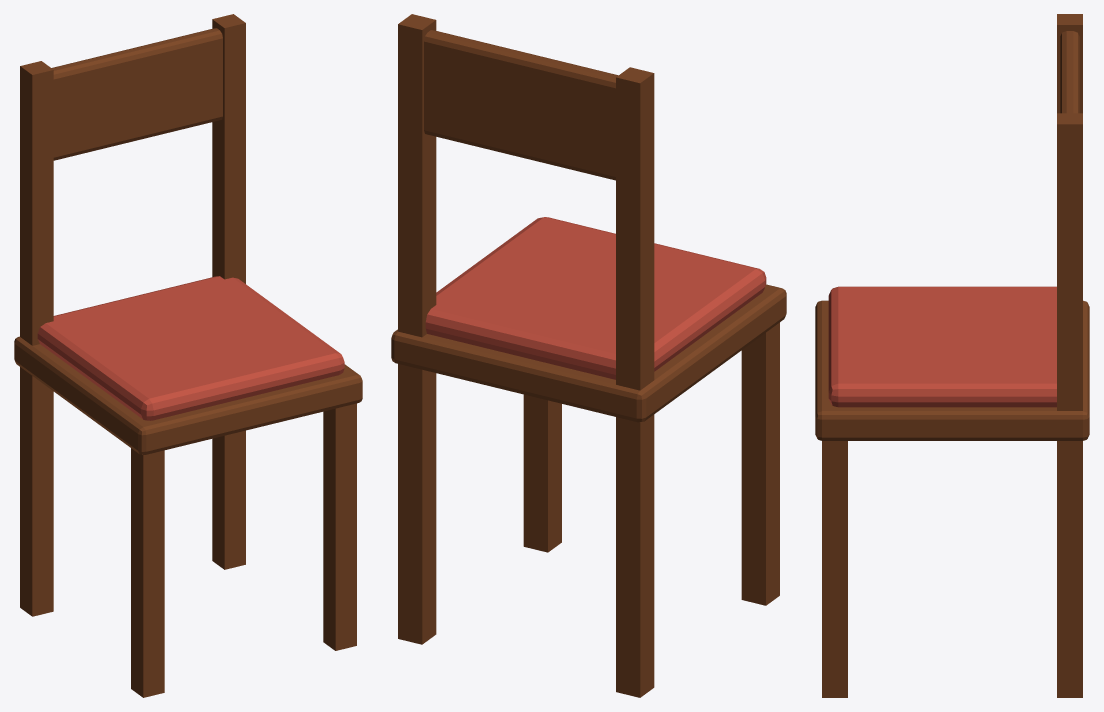
File: stuhl.glb
The picture shows the model from 3 angles, left to right: view 1: azimuth 30°, elevation 25°; view 2: azimuth 150°, elevation 25°; view 3: azimuth 270°, elevation 25°; orthographic projection. The views are drawn at different scales.
Parts seen in each view (by area): view 1: Cube.008, Cube.007, Cube, Cube.005, Cube.001, Cube.003, Cube.002, Cube.006, Cube.004; view 2: Cube.008, Cube.007, Cube, Cube.005, Cube.006, Cube.002, Cube.004, Cube.001, Cube.003; view 3: Cube.008, Cube, Cube.006, Cube.003, Cube.004, Cube.007, Cube.005.
Part boxes in pixels (x1,y1,x2,y2): Cube.008: (37,276,344,420); Cube.007: (24,28,222,160); Cube: (14,336,362,454); Cube.005: (20,61,53,345); Cube.001: (131,448,164,697); Cube.003: (323,403,356,650); Cube.002: (20,367,53,616); Cube.006: (212,14,245,283); Cube.004: (212,430,245,569); Cube.008: (425,217,766,379); Cube.007: (424,30,648,180); Cube: (391,284,786,422); Cube.005: (616,67,654,390); Cube.006: (398,14,436,337); Cube.002: (616,414,654,697); Cube.004: (398,364,436,644); Cube.001: (741,322,779,605); Cube.003: (523,394,561,552); Cube.008: (828,286,1056,407); Cube: (815,300,1089,440); Cube.006: (1057,113,1082,410); Cube.003: (822,441,847,697); Cube.004: (1057,441,1082,697); Cube.007: (1060,31,1079,218); Cube.005: (1057,14,1082,113).
Size of the model in its own units: 0.42 by 0.97 by 0.42.
